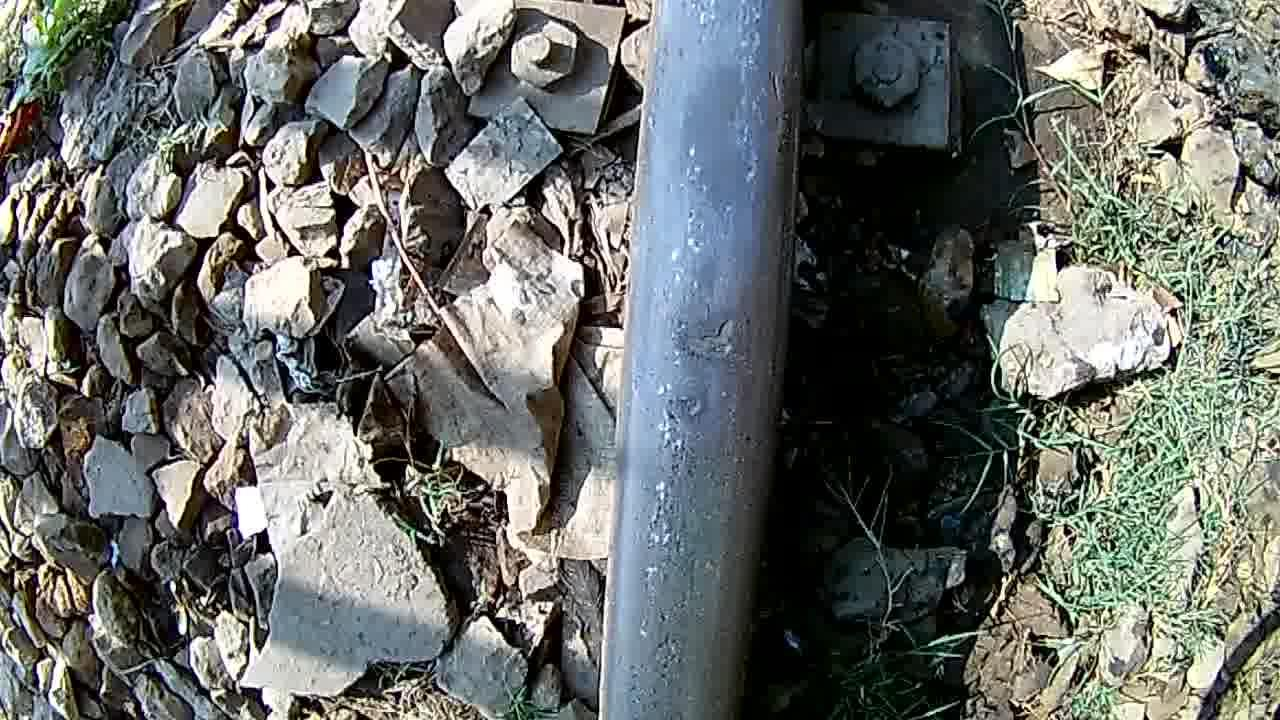bolt_missing: (626, 1, 795, 720)
